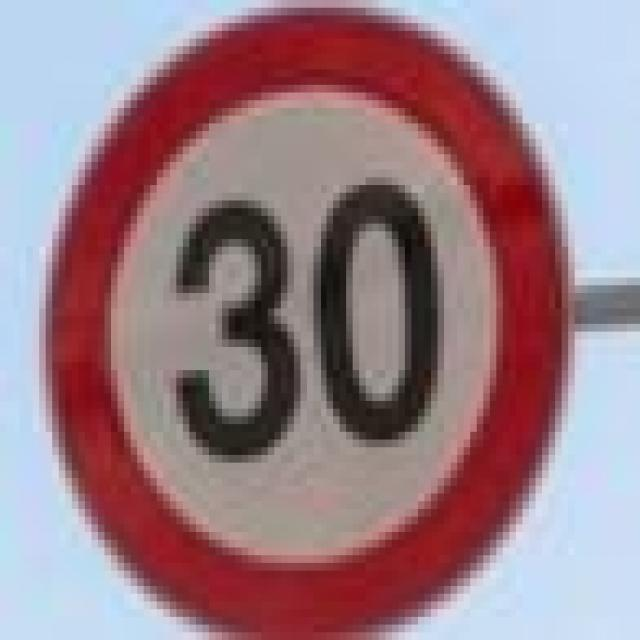Ograniczenie predkosci do 30: (32, 0, 568, 632)
